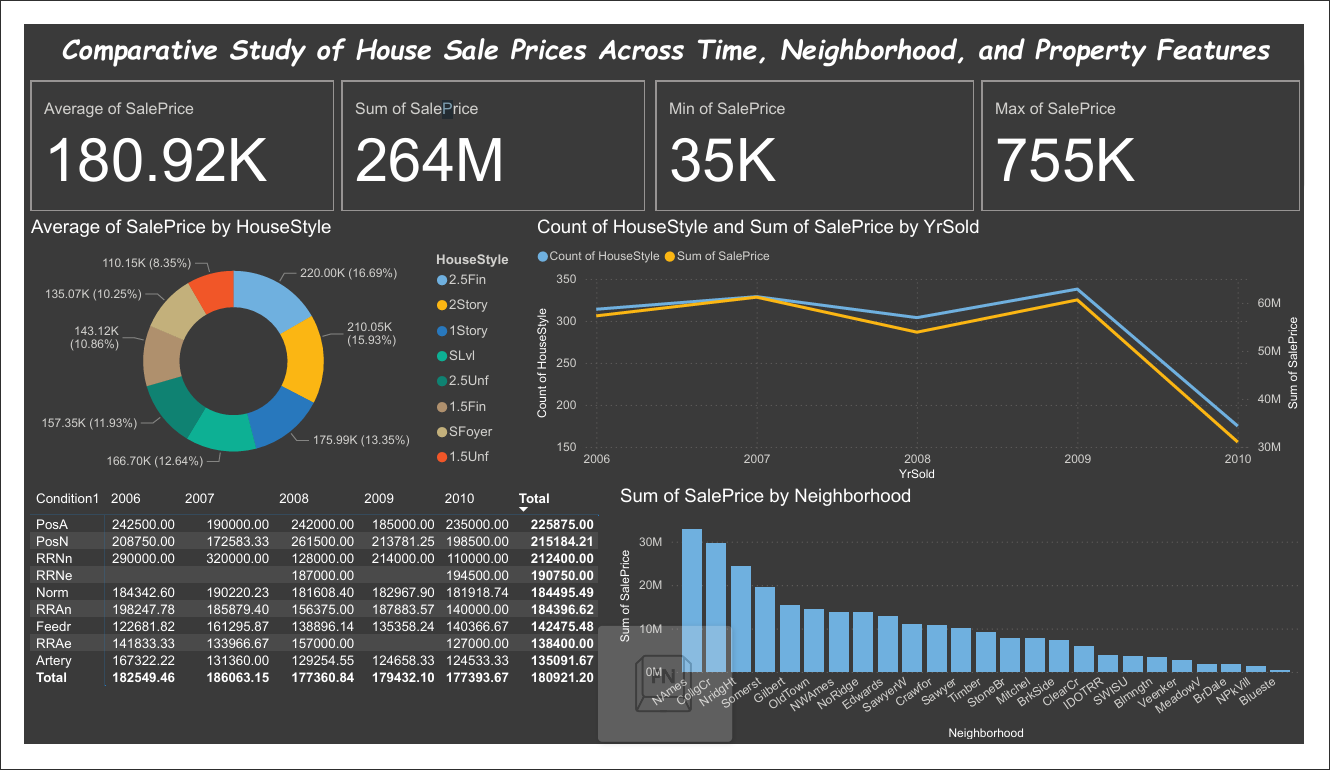

What the dashboard file says about the page in this screenshot:
{"tool":"powerbi","page":{"name":"Page 1","canvas":[1280,720],"ordinal":0},"visuals":[{"type":"cardVisual","fields":{"Data":["Avg(house price.SalePrice)","Sum(house price.SalePrice)"]},"box":[1.5,51.2,624,140.3],"z":0},{"type":"donutChart","fields":{"Category":["house price.HouseStyle"],"Y":["Avg(house price.SalePrice)"]},"box":[1.5,191.5,505.7,268.9],"z":1000},{"type":"lineChart","fields":{"Category":["house price.YrSold"],"Y2":["Sum(house price.SalePrice)"],"Y":["CountNonNull(house price.HouseStyle)"]},"box":[507.1,191.5,773.1,268.9],"z":2000},{"type":"pivotTable","fields":{"Rows":["house price.Condition1"],"Columns":["house price.YrSold"],"Values":["Avg(house price.SalePrice)"]},"box":[1.5,460.4,590.4,258.7],"z":3000},{"type":"cardVisual","fields":{"Data":["Min(house price.SalePrice)","Max(house price.SalePrice)"]},"box":[625.5,51.2,654.7,140.3],"z":3001},{"type":"columnChart","fields":{"Category":["house price.Neighborhood"],"Y":["Sum(house price.SalePrice)"]},"box":[590.4,460.4,689.8,258.7],"z":3002},{"type":"textbox","box":[1.5,0,1278.8,51.2],"z":3003}]}

Visuals, with their boxes in screenshot pixels (x1, y1, x2, y2), scaled from the page's 1280x720 canvas onto the 1330x770 screenshot:
cardVisual - Avg(house price.SalePrice) x Sum(house price.SalePrice): <box>2,55,650,205</box>
donutChart - house price.HouseStyle x Avg(house price.SalePrice): <box>2,205,527,492</box>
lineChart - house price.YrSold x Sum(house price.SalePrice): <box>527,205,1329,492</box>
pivotTable - house price.Condition1 x house price.YrSold: <box>2,492,615,769</box>
cardVisual - Min(house price.SalePrice) x Max(house price.SalePrice): <box>650,55,1329,205</box>
columnChart - house price.Neighborhood x Sum(house price.SalePrice): <box>613,492,1329,769</box>
textbox: <box>2,0,1329,55</box>
